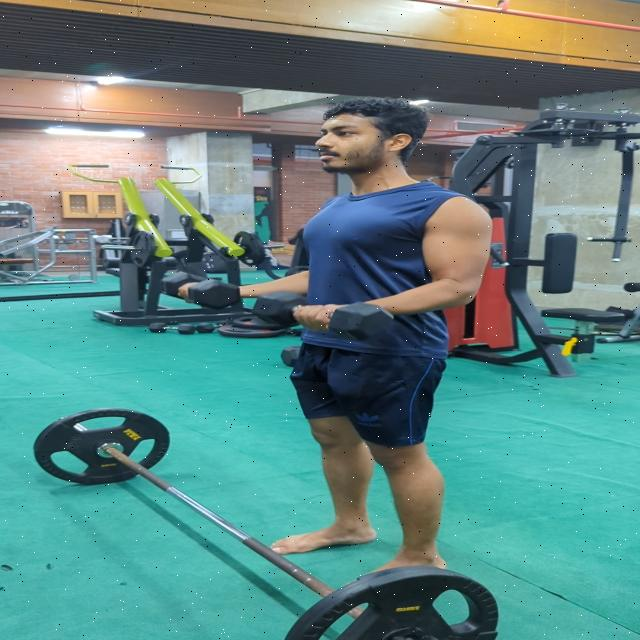Normal_DumbbellBicepCurls: (169, 96, 495, 586)
